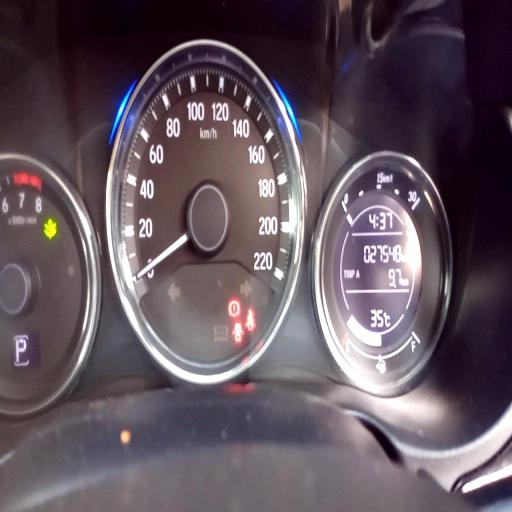belt: (245, 308, 256, 332)
brake_system_fault: (228, 298, 241, 318)
